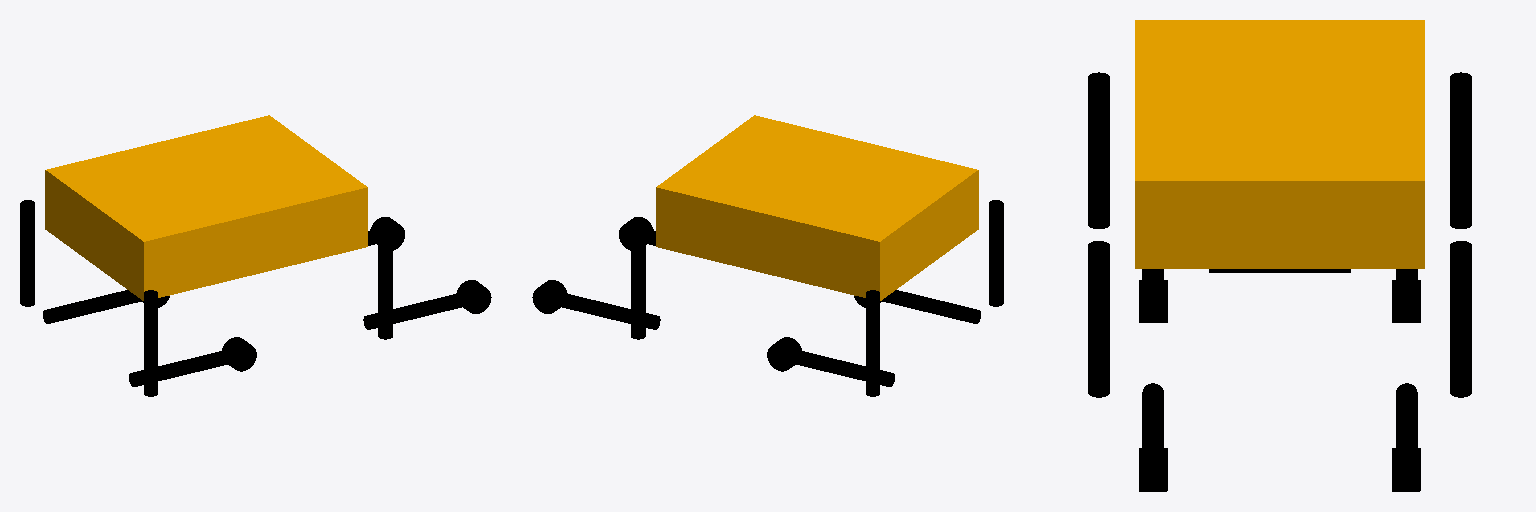
The robot description file, URDF, robot "Bittle":
<?xml version="1.0"?>
<robot name="Bittle">
<!-- bittle_esp32.urdf with the body's collision shape at G2's real size (2026-10-24, the platform project's CAD, fitted to this model's joint line, +2 mm):
     the frame 26.8 mm tall from 8.4 mm below the joint line to 18.4 mm above it (was 20 mm, -10 to +10), and the battery inside it (8.4 to -10.4 mm; it hung to -22.5 mm),
     so the belly sits 12 mm higher, as on G2, and the battery's 68 g sits 13 mm higher with it. Length and width unchanged (the real frame is longer, but cut away where the legs swing). Masses unchanged. Used by the
     arm payload profile (opencat_gym_env URDF_NAME); the pod world keeps bittle_esp32.urdf. -->

    <material name="blue">
        <color rgba="0 0 0.8 1"/>
    </material>
    <material name="black">
        <color rgba="0 0 0 1"/>
    </material>
    <material name="yellow">
        <color rgba="1 0.7 0 1"/>
    </material>

    <link name="torso">       
        <visual>
            <geometry>
                <box size="0.105 0.08 0.0268"/>
            </geometry>
            <material name="yellow"/>
            <origin xyz="0 0 0.005"/>
        </visual>
      
        <collision>
              <geometry>
                <box size="0.105 0.08 0.0268"/>
              </geometry>
              <origin xyz="0 0 0.005"/>
        </collision>

        <inertial>
              <origin xyz="0 0 0.0"/>
              <mass value="0.111"/>
              <inertia ixx="0.0" iyy="0.0"  izz="0.0" ixy="0.0" ixz="0.0" iyz="0.0"/>
        </inertial>
    </link>

    <link name="battery">       
        <visual>
            <geometry>
                <box size="0.0898 0.0394 0.0165"/>
            </geometry>
            <material name="black"/>
            <origin xyz="0.0059 0 0.01285"/>
        </visual>
      
        <collision>
              <geometry>
                 <box size="0.0898 0.0394 0.0165"/>
              </geometry>
              <origin xyz="0.0059 0 0.01285"/>
        </collision>

        <inertial>
              <origin xyz="0.0059 0 0.01285"/>
              <mass value="0.068"/>
              <inertia ixx="0.0" iyy="0.0"  izz="0.0" ixy="0.0" ixz="0.0" iyz="0.0"/>
        </inertial>
    </link>


    <link name="left_upper_arm">
        <visual>
            <origin xyz="0.00 .00 -0.0225" rpy="0 0 0" />
            <geometry>
              <cylinder radius="0.003" length="0.045"/>
            </geometry>
            <material name="black"/>
        </visual>

        <collision>
            <geometry>
              <cylinder radius="0.003" length="0.045"/>
            </geometry>
            <origin xyz="0.00 .00 -0.0225" rpy="0 0 0" />
        </collision>

        <inertial>
            <mass value="0.005"/>
            <inertia ixx="0.0" ixy="0.0" ixz="0.0" iyy="0.0" iyz="0.0" izz="0.0"/>
        </inertial>
    </link>   

    <link name="right_upper_arm">
            <visual>
                <origin xyz="0.00 .00 -0.0225" rpy="0 0 0" />
                <geometry>
                  <cylinder radius="0.003" length="0.045"/>
                </geometry>
                <material name="black"/>
            </visual>

            <collision>
                <geometry>
                  <cylinder radius="0.003" length="0.045"/>
                </geometry>
                <origin xyz="0.00 .00 -0.0225" rpy="0 0 0" />
            </collision>

            <inertial>
                <mass value="0.005"/>
                <inertia ixx="0.0" ixy="0.0" ixz="0.0" iyy="0.0" iyz="0.0" izz="0.0"/>
            </inertial>
        </link>   



    <link name="left_lower_arm">
        <visual>
            <origin xyz="0.00 .00 -0.025" rpy="0 0 0" />
            <geometry>
              <cylinder radius="0.003" length="0.05"/>
            </geometry>
            <material name="black"/>
        </visual>

        <collision>
            <geometry>
              <cylinder radius="0.003" length="0.05"/>
            </geometry>
            <origin xyz="0.00 .00 -0.025" rpy="0 0 0" />
        </collision>

        <inertial>
            <mass value="0.017"/>
            <inertia ixx="0.0" ixy="0.0" ixz="0.0" iyy="0.0" iyz="0.0" izz="0.0"/>
        </inertial>
    </link>   




    

    <link name="right_lower_arm">
        <visual>
            <origin xyz="0.00 .00 -0.025" rpy="0 0 0" />
            <geometry>
              <cylinder radius="0.003" length="0.05"/>
            </geometry>
            <material name="black"/>
        </visual>

        <collision>
            <geometry>
              <cylinder radius="0.003" length="0.05"/>
            </geometry>
            <origin xyz="0.00 .00 -0.025" rpy="0 0 0" />
        </collision>

        <inertial>
            <mass value="0.017"/>
            <inertia ixx="0.0" ixy="0.0" ixz="0.0" iyy="0.0" iyz="0.0" izz="0.0"/>
        </inertial>
    </link>   

    <link name="right_upper_leg">
        <visual>
            <origin xyz="0.00 .00 -0.0225" rpy="0 0 0" />
            <geometry>
              <cylinder radius="0.003" length="0.045"/>
            </geometry>
            <material name="black"/>
        </visual>

        <collision>
            <geometry>
              <cylinder radius="0.003" length="0.045"/>
            </geometry>
            <origin xyz="0.00 .00 -0.0225" rpy="0 0 0" />
        </collision>

        <inertial>
            <mass value="0.005"/>
            <inertia ixx="0.0" ixy="0.0" ixz="0.0" iyy="0.0" iyz="0.0" izz="0.0"/>
        </inertial>
    </link>   

    <link name="right_lower_leg">
        <visual>
            <origin xyz="0.00 .00 -0.025" rpy="0 0 0" />
            <geometry>
              <cylinder radius="0.003" length="0.05"/>
            </geometry>
            <material name="black"/>
        </visual>

        <collision>
            <geometry>
              <cylinder radius="0.003" length="0.05"/>
            </geometry>
            <origin xyz="0.00 .00 -0.025" rpy="0 0 0" />
        </collision>

        <inertial>
            <mass value="0.017"/>
            <inertia ixx="0.0" ixy="0.0" ixz="0.0" iyy="0.0" iyz="0.0" izz="0.0"/>
        </inertial>
    </link>   


    <link name="left_upper_leg">
        <visual>
            <origin xyz="0.00 .00 -0.0225" rpy="0 0 0" />
            <geometry>
              <cylinder radius="0.003" length="0.045"/>
            </geometry>
            <material name="black"/>
        </visual>

        <collision>
            <geometry>
              <cylinder radius="0.003" length="0.045"/>
            </geometry>
            <origin xyz="0.00 .00 -0.0225" rpy="0 0 0" />
        </collision>

        <inertial>
            <mass value="0.005"/>
            <inertia ixx="0.0" ixy="0.0" ixz="0.0" iyy="0.0" iyz="0.0" izz="0.0"/>
        </inertial>
    </link>   

    <link name="left_lower_leg">
        <visual>
            <origin xyz="0.00 .00 -0.025" rpy="0 0 0" />
            <geometry>
              <cylinder radius="0.003" length="0.05"/>
            </geometry>
            <material name="black"/>
        </visual>

        <collision>
            <geometry>
              <cylinder radius="0.003" length="0.05"/>
            </geometry>
            <origin xyz="0.00 .00 -0.025" rpy="0 0 0" />
        </collision>

        <inertial>
            <mass value="0.017"/>
            <inertia ixx="0.0" ixy="0.0" ixz="0.0" iyy="0.0" iyz="0.0" izz="0.0"/>
        </inertial>
    </link>   

    <link name="left_front_paw">
        <visual>
            <origin xyz="0.00 0.0 0.0" rpy="1.57 0 0" />
            <geometry>
              <cylinder radius="0.006" length="0.008"/>
            </geometry>
            <material name="black"/>
        </visual>

        <collision>
            <origin xyz="0.00 0.0 0.0" rpy="1.57 0 0" />
            <geometry>
              <cylinder radius="0.006" length="0.005"/>
            </geometry>
            <material name="black"/>
        </collision>

		<contact>
			<friction_anchor/>
			<stiffness value="2000.0"/>
			<damping value="20.0"/>
			<spinning_friction value=".3"/>
			<lateral_friction value="1"/>
		</contact>

        <inertial>
            <mass value="0.0005"/>
            <inertia ixx="0.0" ixy="0.0" ixz="0.0" iyy="0.0" iyz="0.0" izz="0.0"/>
        </inertial>
    </link> 

    <link name="right_front_paw">
        <visual>
            <origin xyz="0.00 0.0 0.0" rpy="1.57 0 0" />
            <geometry>
              <cylinder radius="0.006" length="0.008"/>
            </geometry>
            <material name="black"/>
        </visual>

        <collision>
            <origin xyz="0.00 0.0 0.0" rpy="1.57 0 0" />
            <geometry>
              <cylinder radius="0.006" length="0.005"/>
            </geometry>
            <material name="black"/>
        </collision>

		<contact>
			<friction_anchor/>
			<stiffness value="2000.0"/>
			<damping value="20.0"/>
			<spinning_friction value=".3"/>
			<lateral_friction value="1"/>
		</contact>

        <inertial>
            <mass value="0.0005"/>
            <inertia ixx="0.0" ixy="0.0" ixz="0.0" iyy="0.0" iyz="0.0" izz="0.0"/>
        </inertial>
    </link> 
    

    <link name="left_back_paw">
        <visual>
            <origin xyz="0.00 0.0 0.0" rpy="1.57 0 0" />
            <geometry>
              <cylinder radius="0.006" length="0.008"/>
            </geometry>
            <material name="black"/>
        </visual>

        <collision>
            <origin xyz="0.00 0.0 0.0" rpy="1.57 0 0" />
            <geometry>
              <cylinder radius="0.006" length="0.005"/>
            </geometry>
            <material name="black"/>
        </collision>

		<contact>
			<friction_anchor/>
			<stiffness value="2000.0"/>
			<damping value="20.0"/>
			<spinning_friction value=".3"/>
			<lateral_friction value="1"/>
		</contact>

        <inertial>
            <mass value="0.0005"/>
            <inertia ixx="0.0" ixy="0.0" ixz="0.0" iyy="0.0" iyz="0.0" izz="0.0"/>
        </inertial>
    </link> 

    <link name="right_back_paw">
        <visual>
            <origin xyz="0.00 0.0 0.0" rpy="1.57 0 0" />
            <geometry>
              <cylinder radius="0.006" length="0.008"/>
            </geometry>
            <material name="black"/>
        </visual>

        <collision>
            <origin xyz="0.00 0.0 0.0" rpy="1.57 0 0" />
            <geometry>
              <cylinder radius="0.006" length="0.005"/>
            </geometry>
            <material name="black"/>
        </collision>

		<contact>
			<friction_anchor/>
			<stiffness value="2000.0"/>
			<damping value="20.0"/>
			<spinning_friction value=".3"/>
			<lateral_friction value="1"/>
		</contact>

        <inertial>
            <mass value="0.0005"/>
            <inertia ixx="0.0" ixy="0.0" ixz="0.0" iyy="0.0" iyz="0.0" izz="0.0"/>
        </inertial>
    </link> 

    <joint name="battery" type="fixed">
          <origin xyz="0.00 0.0 -0.015" rpy="0 0 0"/>
          <parent link="torso"/>
          <child link="battery"/>     
    </joint>

    <joint name="shoulder_left" type="revolute">
          <axis xyz="0 1 0"/>
          <origin xyz="0.055 0.05 0" rpy="0 0 0"/>
          <parent link="torso"/>
          <child link="left_upper_arm"/>
          <!-- 2026-09-24: lower widened -1.57 to -3.15 rad to cover rc_ref.npy's
               real self-right keyframe range (-3.072 rad), confirmed vs the
               URDF in docs/research/community-projects.md Finding 1b. Upper
               unchanged; rc_ref.npy's max (0.628) already fits. -->
          <limit effort="0" lower="-3.15" upper="1.57" velocity="0"/>
    </joint>

    <joint name="shoulder_right" type="revolute">
          <axis xyz="0 1 0"/>
          <origin xyz="0.055 -0.05 0" rpy="0 0 0"/>
          <parent link="torso"/>
          <child link="right_upper_arm"/>
          <!-- 2026-09-24: same as shoulder_left, see that comment -->
          <limit effort="0" lower="-3.15" upper="1.57" velocity="0"/>
    </joint>

    <joint name="hip_right" type="revolute">
          <axis xyz="0 1 0"/>
          <origin xyz="-0.055 -0.05 0" rpy="0 0 0"/>
          <parent link="torso"/>
          <child link="right_upper_leg"/>
          <!-- 2026-09-24: upper widened 2.00 to 3.55 rad to cover rc_ref.npy's
               real self-right keyframe range (3.491 rad). Lower unchanged;
               rc_ref.npy's min (0.524) already fits with room to spare. -->
          <limit effort="0" lower="-1.57" upper="3.55" velocity="0"/>
    </joint>

    <joint name="hip_left" type="revolute">
          <axis xyz="0 1 0"/>
          <origin xyz="-0.055 0.05 0" rpy="0 0 0"/>
          <parent link="torso"/>
          <child link="left_upper_leg"/>
          <!-- 2026-09-24: same as hip_right, see that comment -->
          <limit effort="0" lower="-1.57" upper="3.55" velocity="0"/>
    </joint>

    <joint name="elbow_left" type="revolute">
          <axis xyz="0 1 0"/>
          <origin xyz="0.00 -0.015 -0.045" rpy="0 -1.57 0"/>
          <parent link="left_upper_arm"/>
          <child link="left_lower_arm"/>
          <limit effort="0" lower="-1.57" upper="1.57" velocity="0"/>
    </joint>

    <joint name="elbow_right" type="revolute">
          <axis xyz="0 1 0"/>
          <origin xyz="0.00 0.015 -0.045" rpy="0 -1.57 0"/>
          <parent link="right_upper_arm"/>
          <child link="right_lower_arm"/>
          <limit effort="0" lower="-1.57" upper="1.57" velocity="0"/>
    </joint>


    <joint name="knee_right" type="revolute">
          <axis xyz="0 1 0"/>
          <origin xyz="0.00 0.015 -0.045" rpy="0 -1.57 0"/>
          <parent link="right_upper_leg"/>
          <child link="right_lower_leg"/>
          <limit effort="0" lower="-1.57" upper="1.57" velocity="0"/>
    </joint>   

    <joint name="knee_left" type="revolute">
          <axis xyz="0 1 0"/>
          <origin xyz="0.00 -0.015 -0.045" rpy="0 -1.57 0"/>
          <parent link="left_upper_leg"/>
          <child link="left_lower_leg"/>
          <!-- 2026-09-24: upper widened 1.57 to 1.80 rad to cover rc_ref.npy's
               real self-right keyframe range (1.745 rad). Lower unchanged;
               rc_ref.npy's min (-0.489) already fits. -->
          <limit effort="0" lower="-1.57" upper="1.80" velocity="0"/>
    </joint>    

    <joint name="paw_front_left" type="fixed">
          <origin xyz="0.00 0.0 -0.05" rpy="0 -1.57 0"/>
          <parent link="left_lower_arm"/>
          <child link="left_front_paw"/>     
    </joint>

    <joint name="paw_front_right" type="fixed">
          <origin xyz="0.00 0.0 -0.05" rpy="0 -1.57 0"/>
          <parent link="right_lower_arm"/>
          <child link="right_front_paw"/>     
    </joint>

    <joint name="paw_back_left" type="fixed">
          <origin xyz="0.00 0.0 -0.05" rpy="0 -1.57 0"/>
          <parent link="left_lower_leg"/>
          <child link="left_back_paw"/>     
    </joint>

    <joint name="paw_back_right" type="fixed">
          <origin xyz="0.00 0.0 -0.05" rpy="0 -1.57 0"/>
          <parent link="right_lower_leg"/>
          <child link="right_back_paw"/>     
    </joint>

</robot>

--- Render facts (derived) ---
Views: 3 orthographic renders of the robot side by side, from view 1: azimuth 30°, elevation 25°; view 2: azimuth 150°, elevation 25°; view 3: azimuth 270°, elevation 25°.
Robot: Bittle — 14 links, 13 joints (8 revolute, 5 fixed); root link torso; default pose: every joint at zero.
Visible links, largest first — view 1: torso, left_upper_leg, right_upper_arm, right_upper_leg, left_lower_leg, right_lower_leg, right_lower_arm, right_back_paw, right_front_paw, left_front_paw; view 2: torso, right_upper_leg, left_upper_arm, left_upper_leg, right_lower_leg, left_lower_leg, left_lower_arm, left_back_paw, left_front_paw, right_front_paw; view 3: torso, left_upper_arm, right_upper_arm, right_upper_leg, left_upper_leg, left_lower_arm, right_lower_arm, left_front_paw, right_front_paw, left_back_paw, right_back_paw, battery.
Link boxes in pixels (x1=…): torso: x1=45, y1=115, x2=367, y2=300; left_upper_leg: x1=20, y1=200, x2=34, y2=306; right_upper_arm: x1=378, y1=233, x2=392, y2=339; right_upper_leg: x1=144, y1=290, x2=157, y2=396; left_lower_leg: x1=43, y1=290, x2=141, y2=323; right_lower_leg: x1=129, y1=350, x2=229, y2=386; right_lower_arm: x1=363, y1=293, x2=464, y2=329; right_back_paw: x1=222, y1=337, x2=256, y2=371; right_front_paw: x1=456, y1=280, x2=491, y2=313; left_front_paw: x1=370, y1=217, x2=404, y2=250; torso: x1=656, y1=115, x2=978, y2=300; right_upper_leg: x1=989, y1=200, x2=1003, y2=306; left_upper_arm: x1=631, y1=233, x2=645, y2=339; left_upper_leg: x1=866, y1=290, x2=879, y2=396; right_lower_leg: x1=882, y1=290, x2=980, y2=323; left_lower_leg: x1=794, y1=350, x2=894, y2=386; left_lower_arm: x1=559, y1=293, x2=660, y2=329; left_back_paw: x1=767, y1=337, x2=801, y2=371; left_front_paw: x1=532, y1=280, x2=567, y2=313; right_front_paw: x1=619, y1=217, x2=653, y2=250; torso: x1=1135, y1=20, x2=1424, y2=268; left_upper_arm: x1=1450, y1=241, x2=1471, y2=397; right_upper_arm: x1=1088, y1=241, x2=1109, y2=397; right_upper_leg: x1=1088, y1=72, x2=1109, y2=228; left_upper_leg: x1=1450, y1=72, x2=1471, y2=228; left_lower_arm: x1=1396, y1=383, x2=1417, y2=447; right_lower_arm: x1=1142, y1=383, x2=1163, y2=447; left_front_paw: x1=1392, y1=448, x2=1420, y2=491; right_front_paw: x1=1139, y1=448, x2=1167, y2=491; left_back_paw: x1=1392, y1=280, x2=1420, y2=322; right_back_paw: x1=1139, y1=280, x2=1167, y2=322; battery: x1=1209, y1=269, x2=1350, y2=272.
Bounding box of the posed robot: 0.169 × 0.106 × 0.0694 m (x, y, z).
Geometry: primitives only (box / cylinder / sphere), no mesh files.
